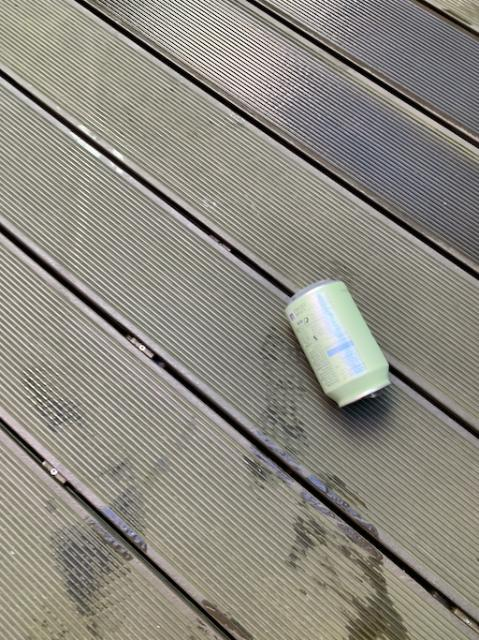metal: (282, 276, 391, 408)
